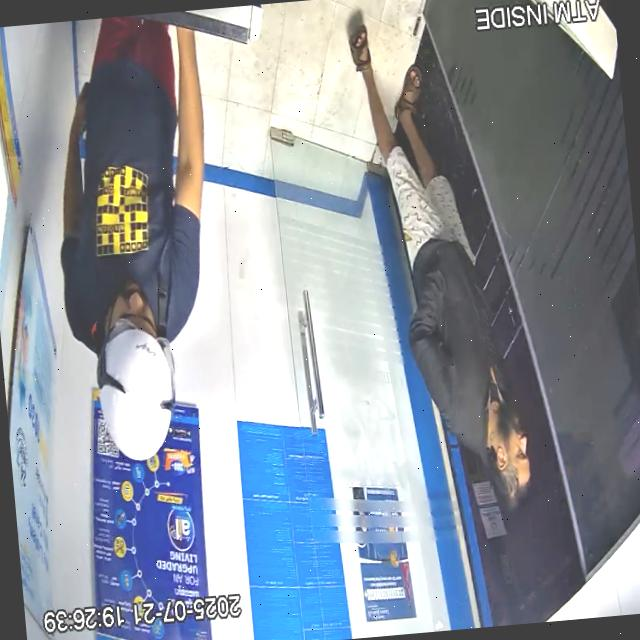helmet: (96, 280, 176, 461)
no_helmet: (486, 402, 532, 514)
